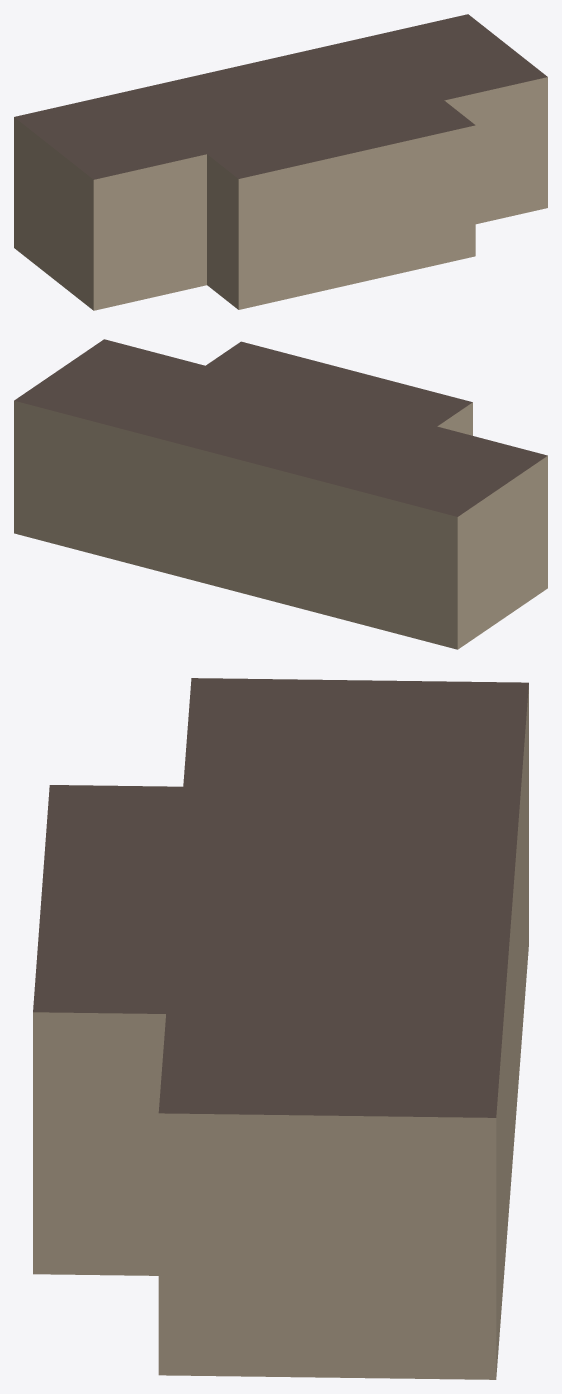
3 views of the same model, one above another, from view 1: azimuth 30°, elevation 25°; view 2: azimuth 150°, elevation 25°; view 3: azimuth 270°, elevation 25° (orthographic). The views are drawn at different scales.
Visible parts, largest first — view 1: HP-w859488920; view 2: HP-w859488920; view 3: HP-w859488920.
Boxes of the visible parts, x1,y1,x2,y2 form: HP-w859488920: (14, 14, 547, 310); HP-w859488920: (14, 339, 547, 649); HP-w859488920: (33, 678, 528, 1379).
Bounding box in the file's own units: 32.41 × 9 × 15.44.
